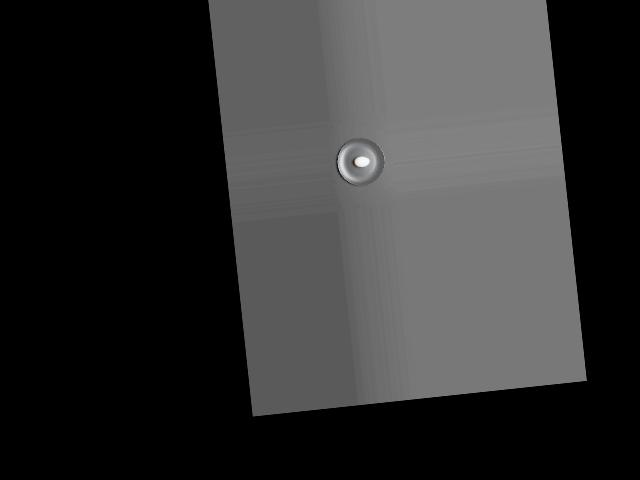egg: (353, 155, 369, 167)
